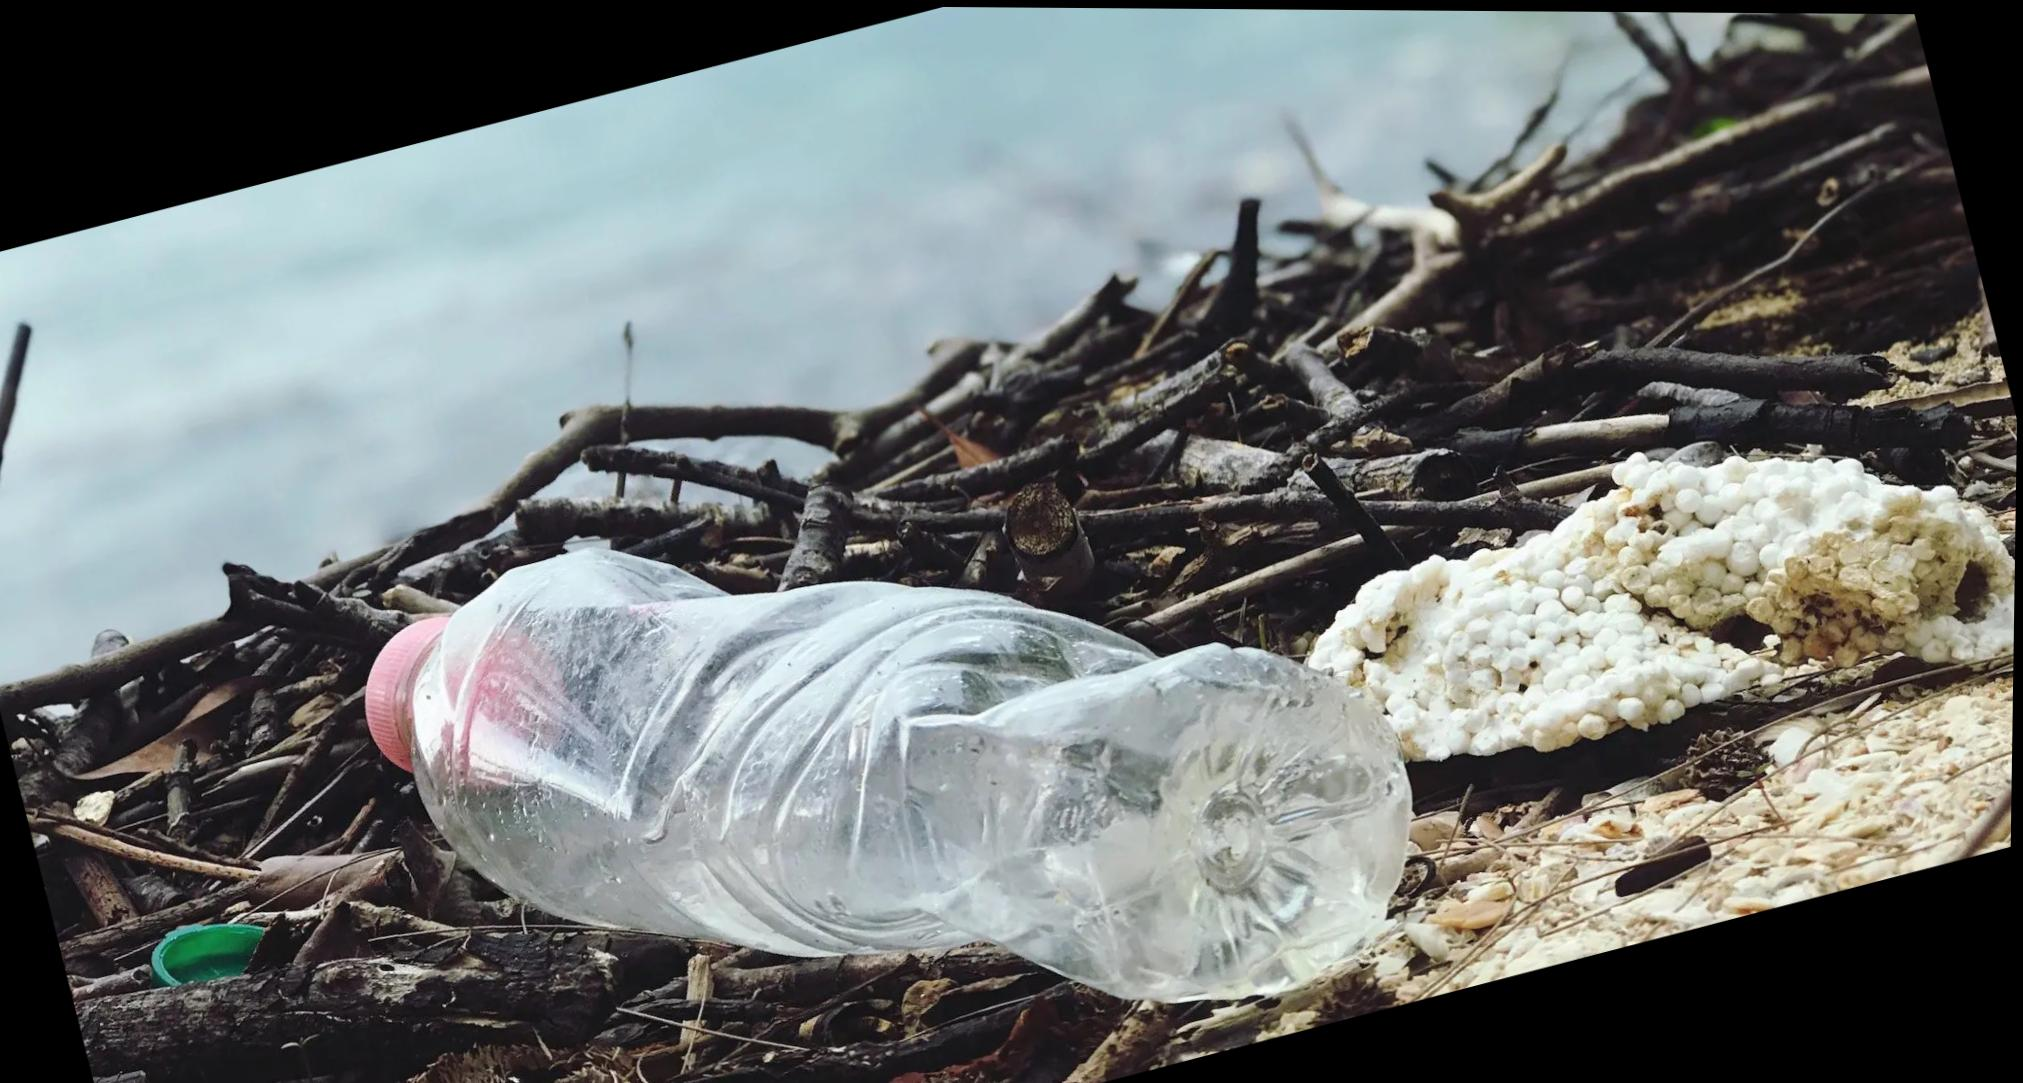plastic: (367, 357, 1409, 999)
